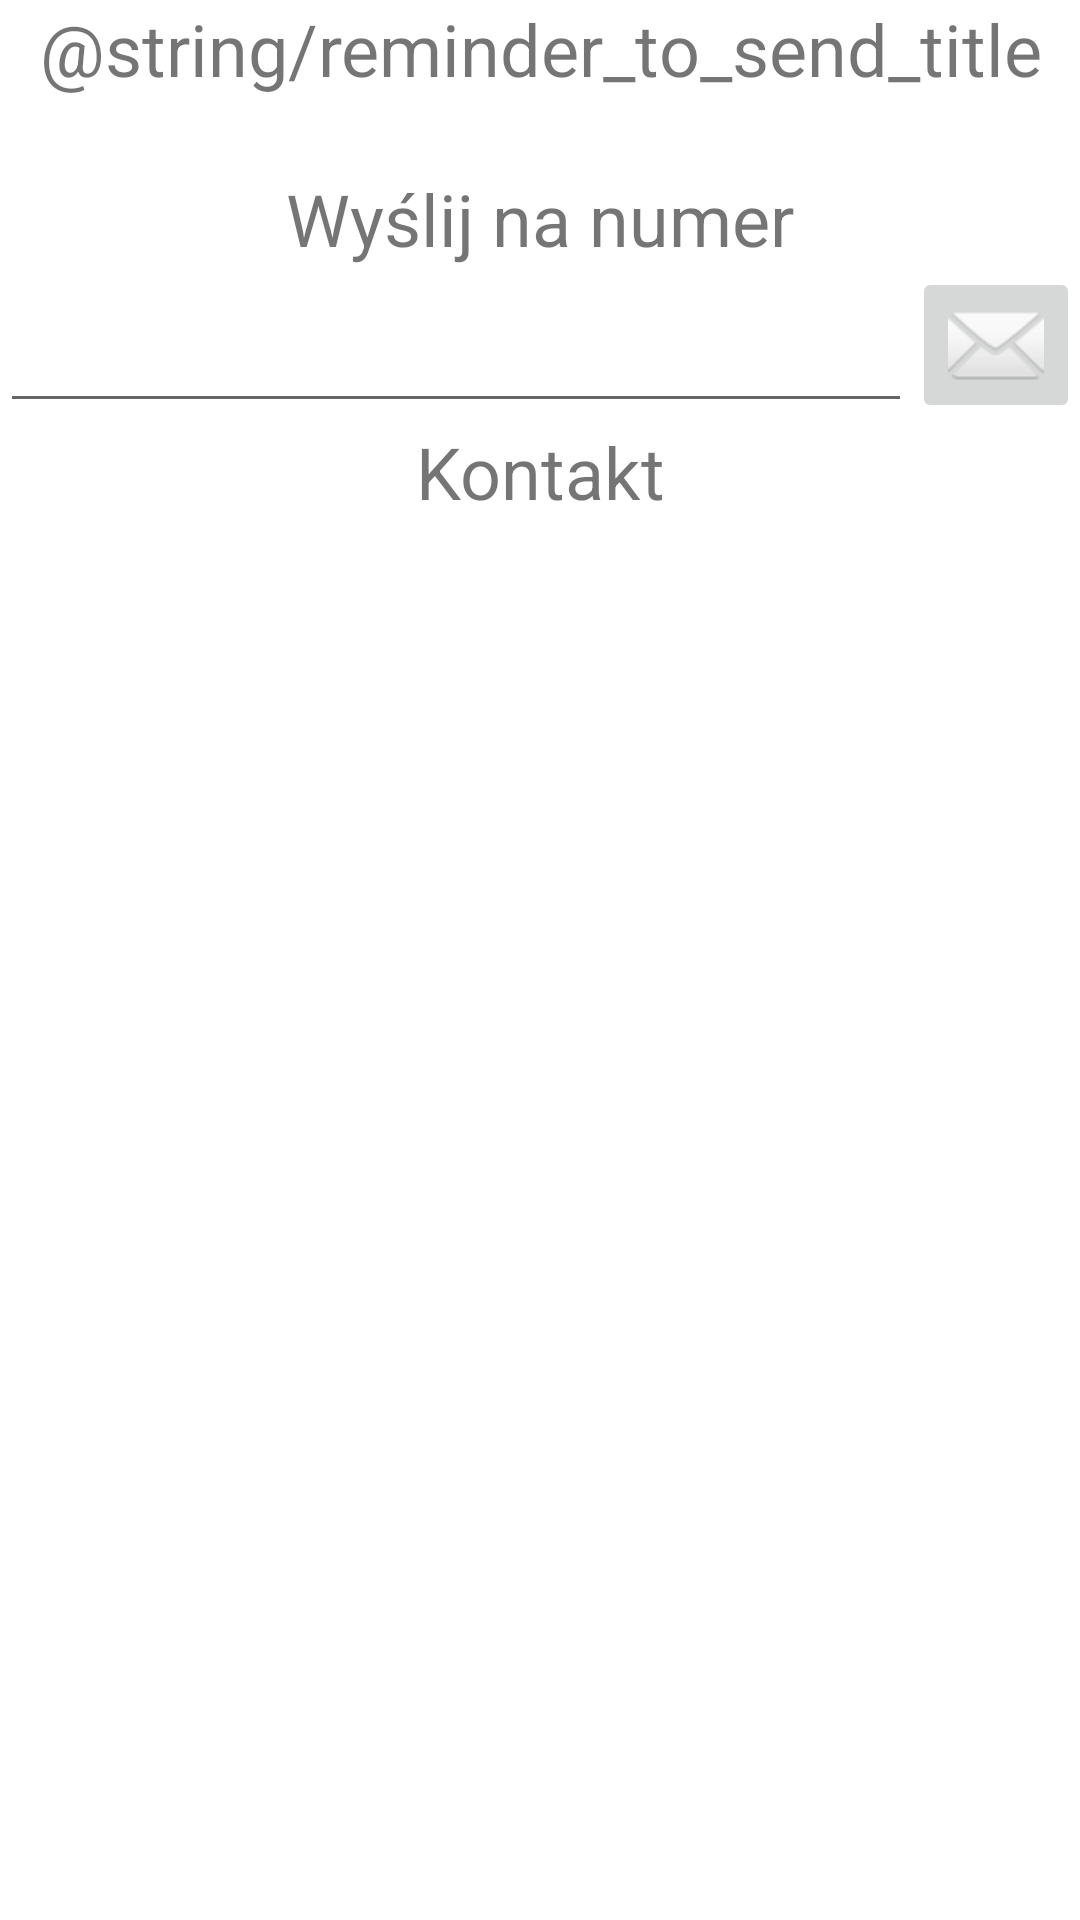

Named icons in this screenshot (1080 x 1920) and their centers, (x=x, y=y):
email: (x=996, y=345)
